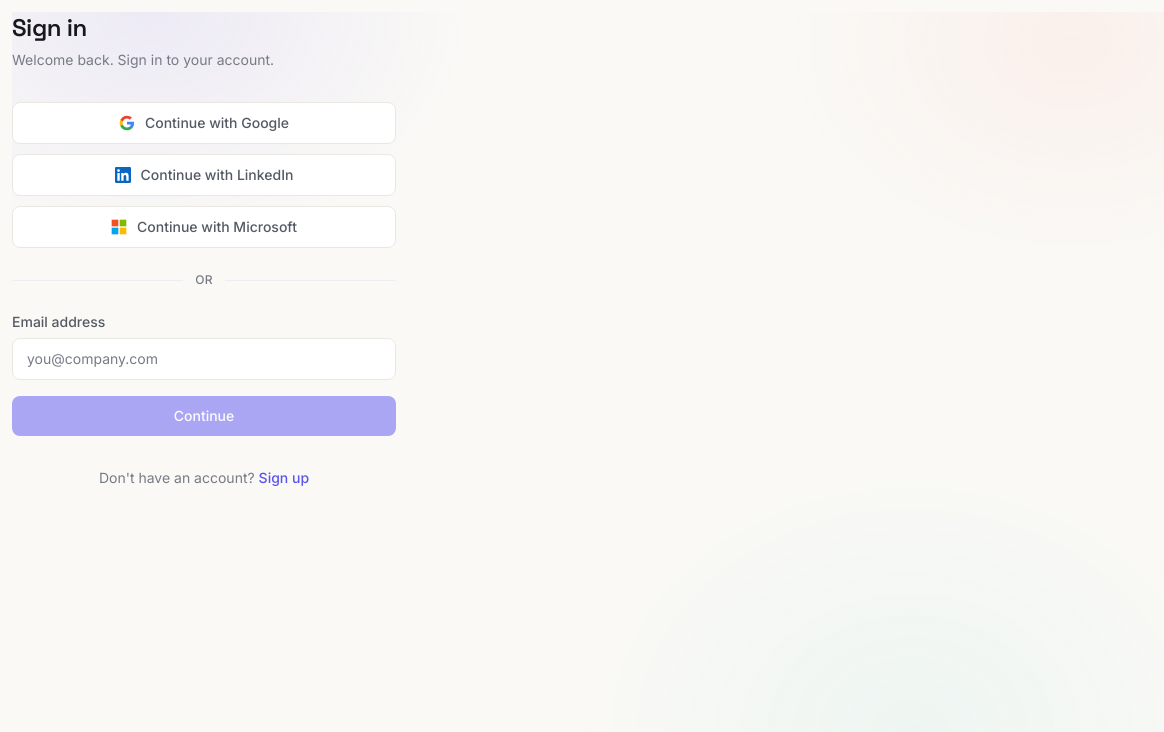
Test: SignInPage › never silently resets: an unsupported status shows an error
In the field labelled "Email address": (204, 359) [12,338,396,380], type "j@example.com"
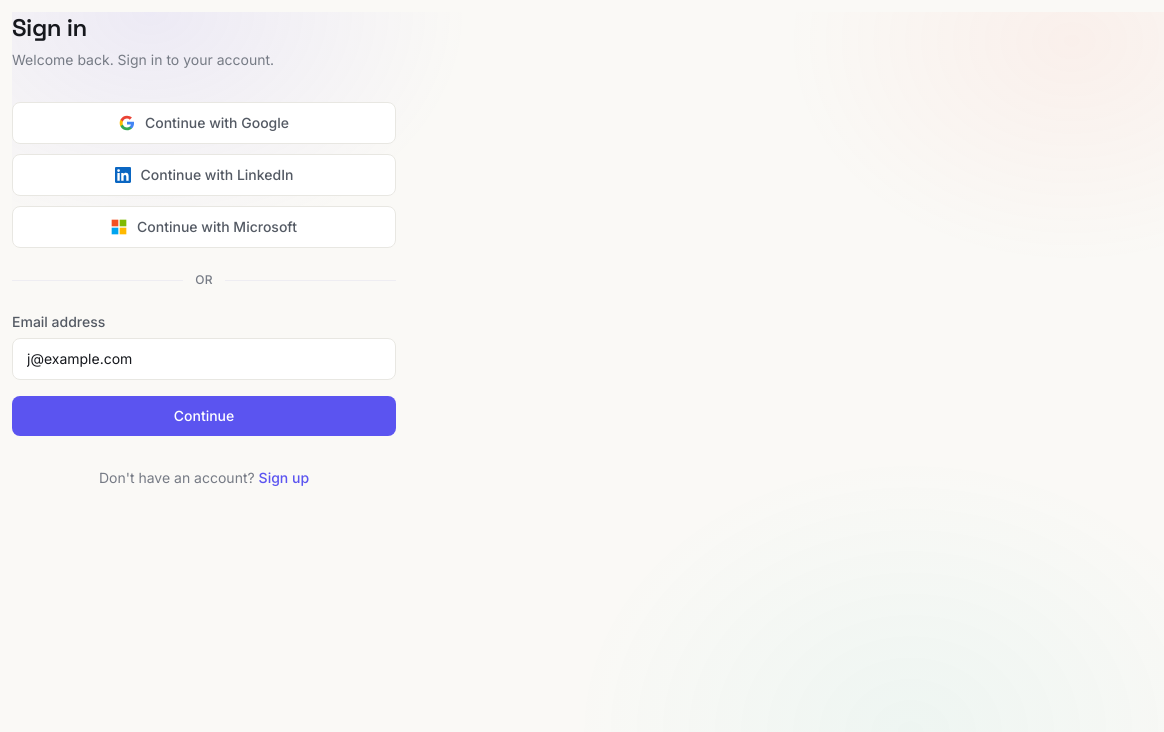
Click the button "Continue": (204, 416) [12,396,396,436]
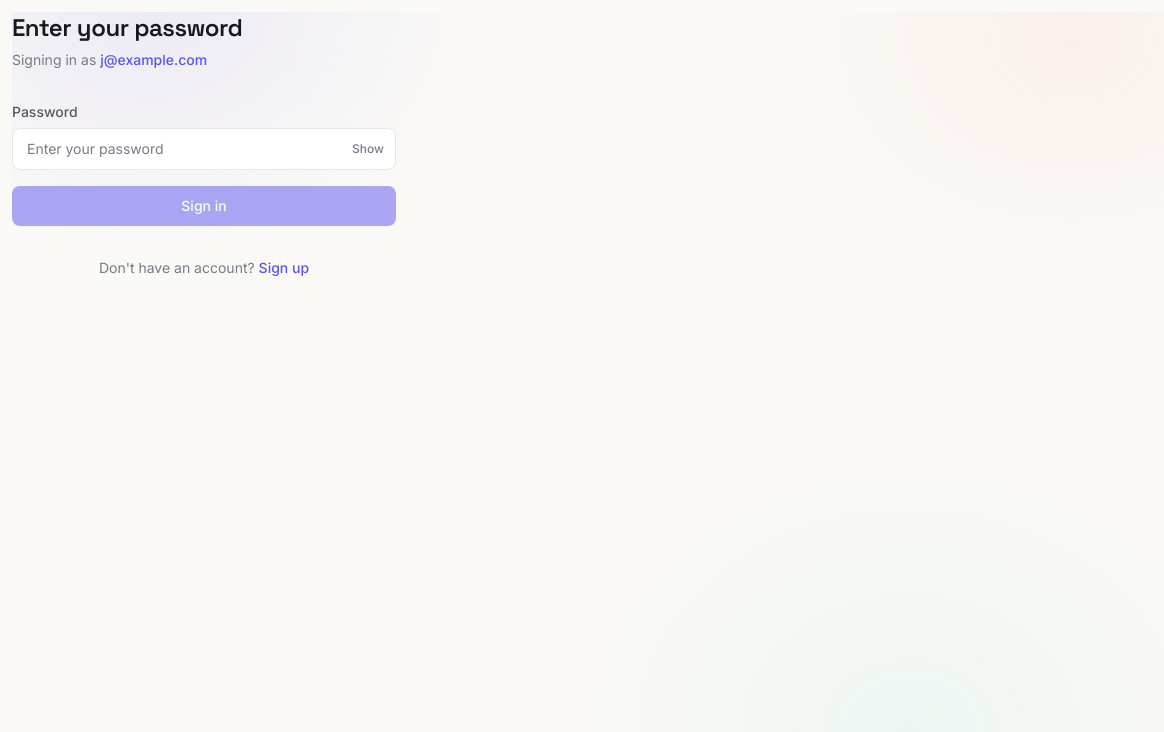
Now the password field labelled "Password" is shown
In the password field labelled "Password": (204, 149) [12,128,396,170], type "hunter22"
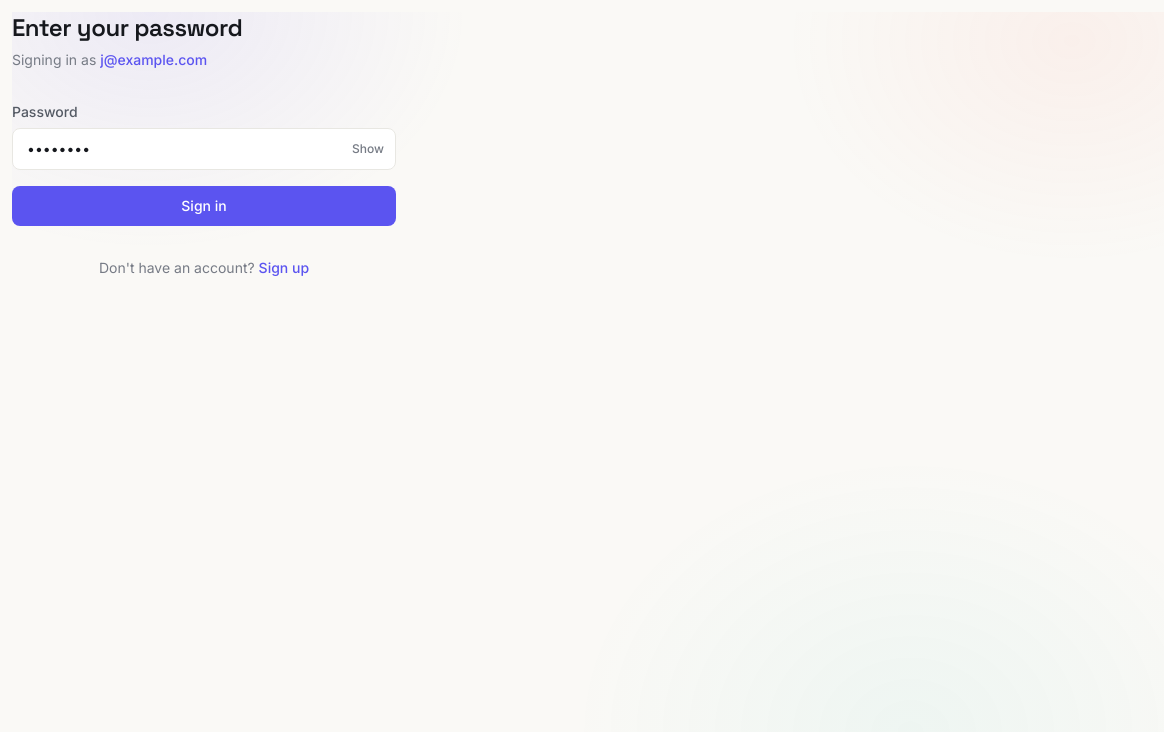
Click the button "Sign in": (204, 206) [12,186,396,226]
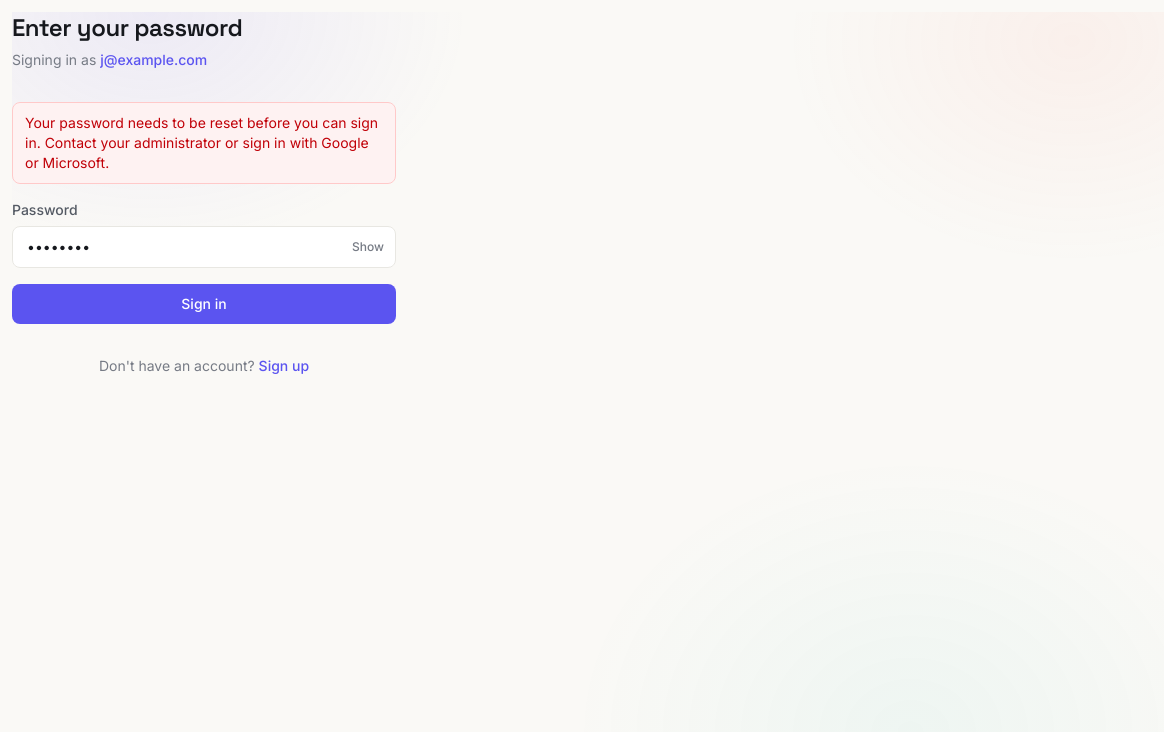
Now the message shows "password", box [25,114,378,171]
